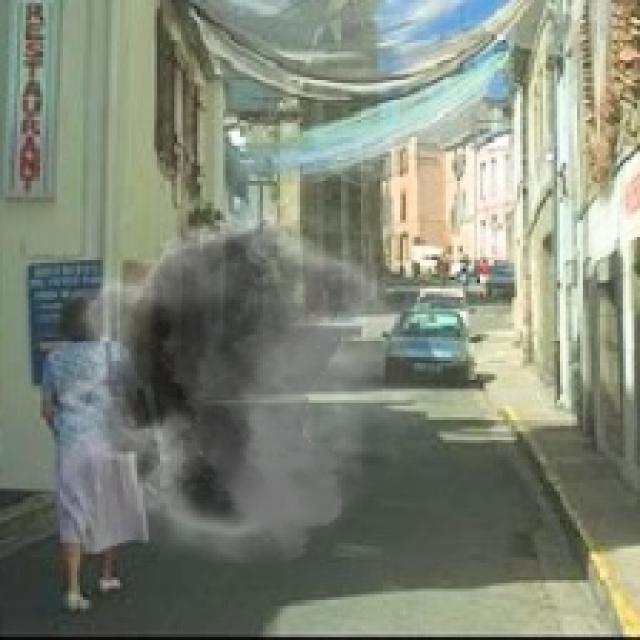smoke: (37, 188, 452, 563)
